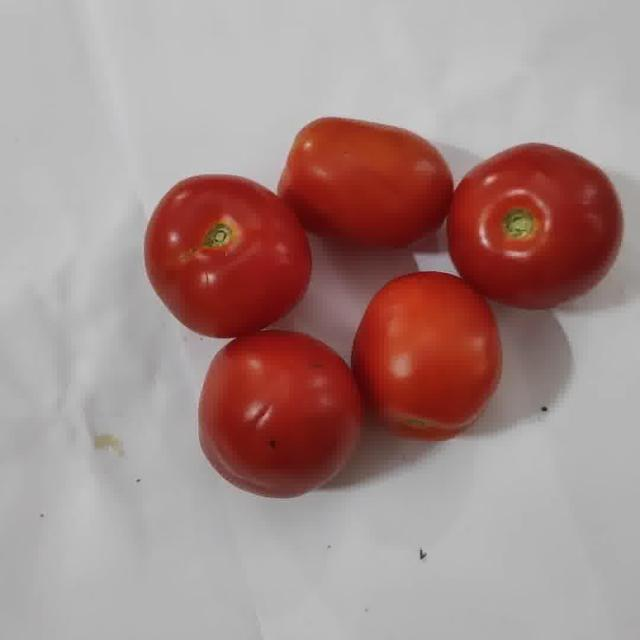Tomato: (446, 143, 623, 309), (145, 175, 311, 338), (199, 331, 360, 497), (351, 273, 501, 440), (279, 117, 453, 247)
